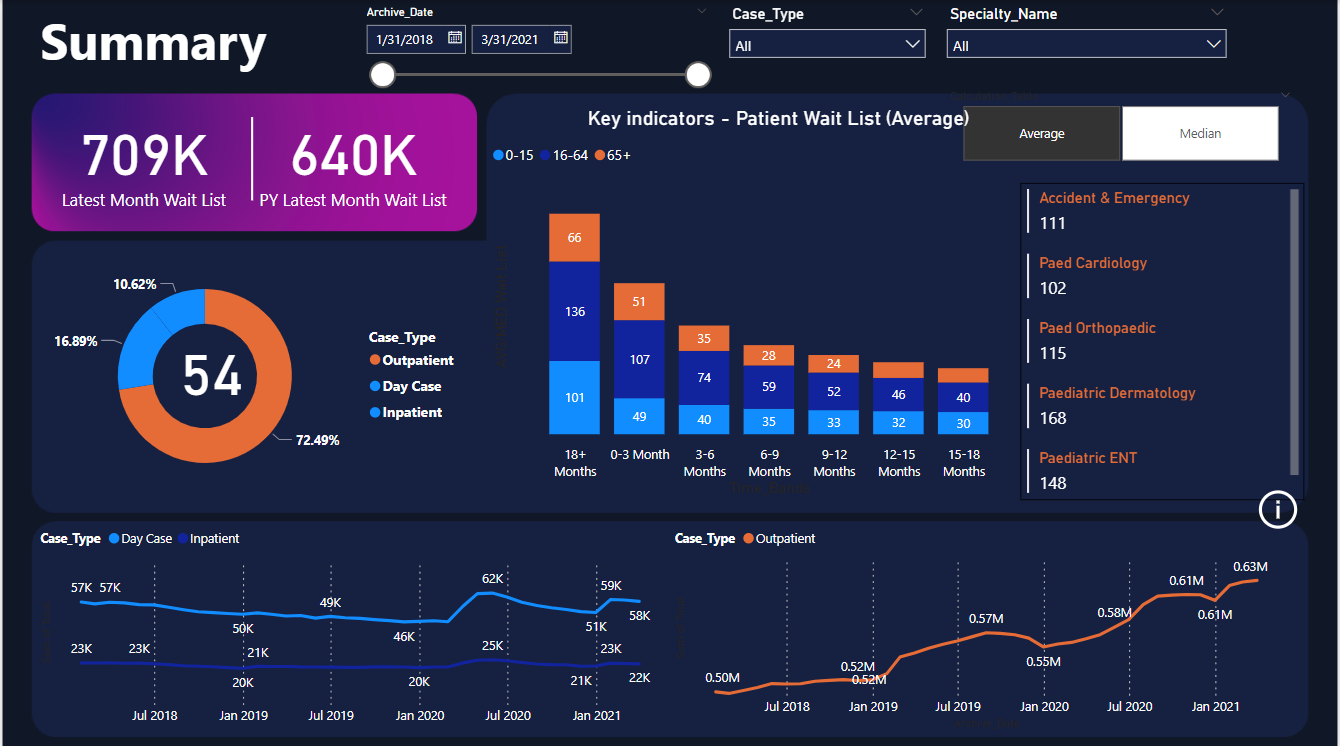

What the dashboard file says about the page in this screenshot:
{"tool":"powerbi","page":{"name":"Summary","canvas":[1280,720],"ordinal":0},"visuals":[{"type":"card","fields":{"Values":["All_Data.Latest Month Wait List"]},"box":[32,96,208,112],"z":0},{"type":"card","fields":{"Values":["All_Data.PY Latest Month Wait List"]},"box":[240,96,192,112],"z":1000},{"type":"donutChart","fields":{"Category":["All_Data.Case_Type"],"Y":["All_Data.AVG/MED Wait List"]},"box":[32,240,416,240],"z":2000},{"type":"slicer","fields":{"Values":["Calculation_table.Calculation_Table"]},"box":[896,80,352,80],"z":3000},{"type":"columnChart","fields":{"Y":["All_Data.AVG/MED Wait List"],"Category":["All_Data.Time_Bands"],"Series":["All_Data.Age_Profile"]},"box":[464,128,512,352],"z":4000},{"type":"multiRowCard","fields":{"Values":["All_Data.Specialty_Name","All_Data.AVG/MED Wait List"]},"box":[976,176,272,304],"z":5000},{"type":"card","fields":{"Values":["All_Data.No data Left"]},"box":[96,512,480,192],"z":5500},{"type":"lineChart","fields":{"Y":["Sum(All_Data.Total)"],"Category":["All_Data.Archive_Date"],"Series":["All_Data.Case_Type"]},"box":[32,496,608,208],"z":6000},{"type":"card","fields":{"Values":["All_Data.No data Right"]},"box":[736,512,480,192],"z":7000},{"type":"lineChart","fields":{"Y":["Sum(All_Data.Total)"],"Category":["All_Data.Archive_Date"],"Series":["All_Data.Case_Type"]},"box":[640,496,592,208],"z":8000},{"type":"slicer","fields":{"Values":["All_Data.Archive_Date"]},"box":[336,0,352,144],"z":9000},{"type":"slicer","fields":{"Values":["All_Data.Specialty_Name"]},"box":[896,0,288,80],"z":10000},{"type":"slicer","fields":{"Values":["All_Data.Case_Type"]},"box":[688,0,208,80],"z":11000},{"type":"textbox","box":[32,0,272,80],"z":12000},{"type":"card","fields":{"Values":["All_Data.AVG/MED Wait List"]},"box":[144,320,112,64],"z":13000},{"type":"shape","box":[144,112,192,80],"z":14000},{"type":"card","fields":{"Values":["All_Data.Dynamic Title"]},"box":[512,64,464,96],"z":15000},{"type":"actionButton","box":[1200,464,64,48],"z":15001}]}

Visuals, with their boxes in screenshot pixels (x1, y1, x2, y2), scaled from the page's 1280x720 canvas onto the 1340x746 screenshot:
card - All_Data.Latest Month Wait List: 34,99,251,216
card - All_Data.PY Latest Month Wait List: 251,99,452,216
donutChart - All_Data.Case_Type x All_Data.AVG/MED Wait List: 34,249,469,497
slicer - Calculation_table.Calculation_Table: 938,83,1306,166
columnChart - All_Data.AVG/MED Wait List x All_Data.Time_Bands: 486,133,1022,497
multiRowCard - All_Data.Specialty_Name x All_Data.AVG/MED Wait List: 1022,182,1306,497
card - All_Data.No data Left: 100,530,603,729
lineChart - Sum(All_Data.Total) x All_Data.Archive_Date: 34,514,670,729
card - All_Data.No data Right: 770,530,1273,729
lineChart - Sum(All_Data.Total) x All_Data.Archive_Date: 670,514,1290,729
slicer - All_Data.Archive_Date: 352,0,720,149
slicer - All_Data.Specialty_Name: 938,0,1240,83
slicer - All_Data.Case_Type: 720,0,938,83
textbox: 34,0,318,83
card - All_Data.AVG/MED Wait List: 151,332,268,398
shape: 151,116,352,199
card - All_Data.Dynamic Title: 536,66,1022,166
actionButton: 1256,481,1323,530
